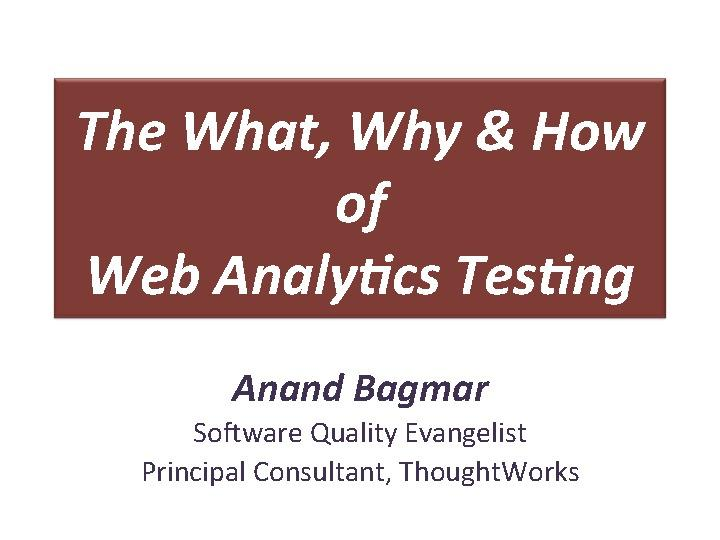subtitle: (95, 345, 702, 510)
title: (46, 76, 675, 328)
